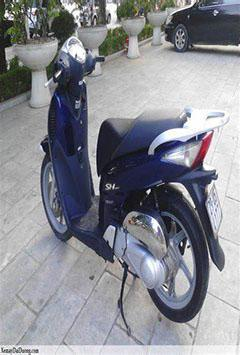motorcycle: (10, 19, 232, 344)
